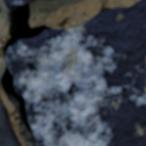brick: (8, 0, 145, 145), (0, 99, 20, 145), (5, 0, 34, 10)
crack: (0, 2, 51, 143)
